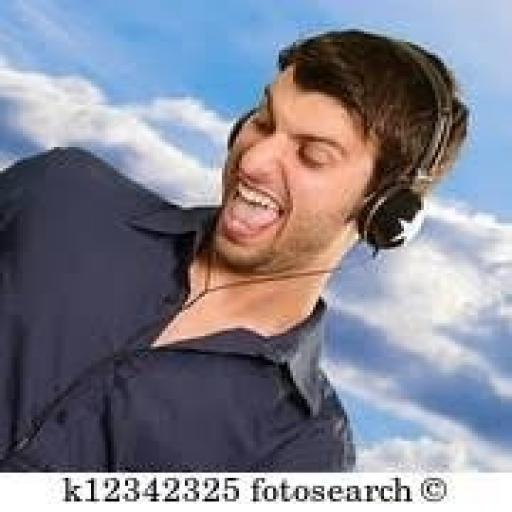listening_to_music: (0, 26, 472, 473)
